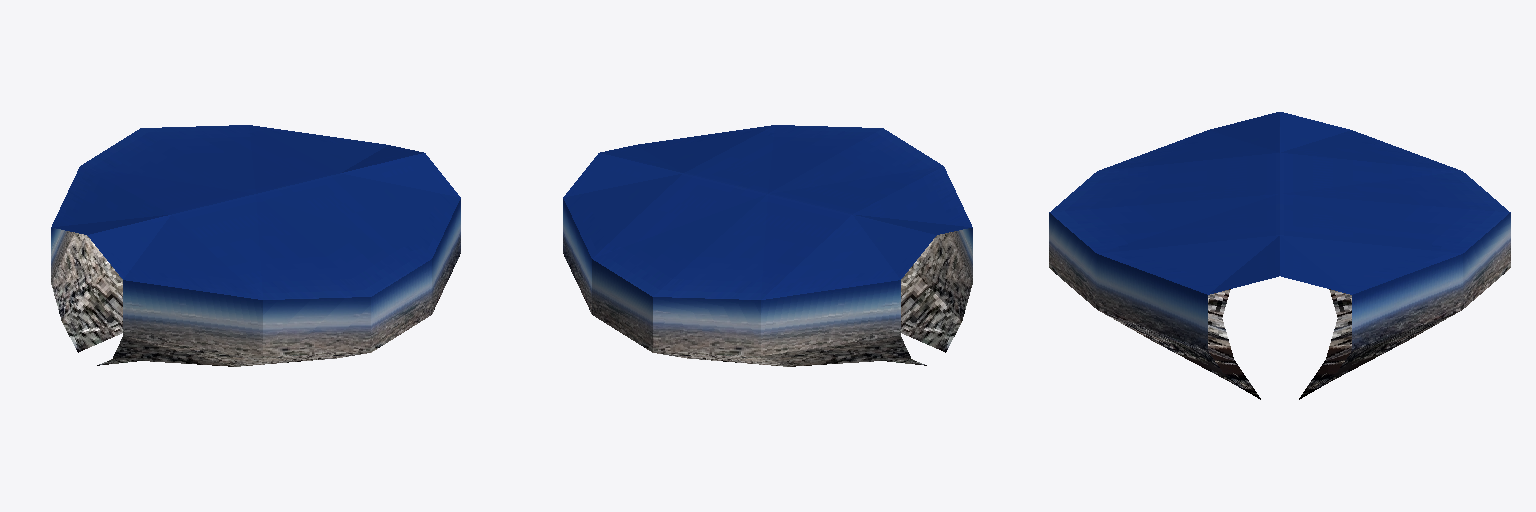
3 views of the same model, side by side, from view 1: azimuth 30°, elevation 25°; view 2: azimuth 150°, elevation 25°; view 3: azimuth 270°, elevation 25° (orthographic).
Parts seen in each view (by area): view 1: Studio; view 2: Studio; view 3: Studio.
Part boxes in pixels (bbox=[...]): Studio: bbox=[51, 125, 460, 366]; Studio: bbox=[563, 125, 972, 366]; Studio: bbox=[1049, 112, 1510, 399].
Size of the model in its own units: 7404 by 2600 by 8752.
Materials: 8 (5 with a texture image).